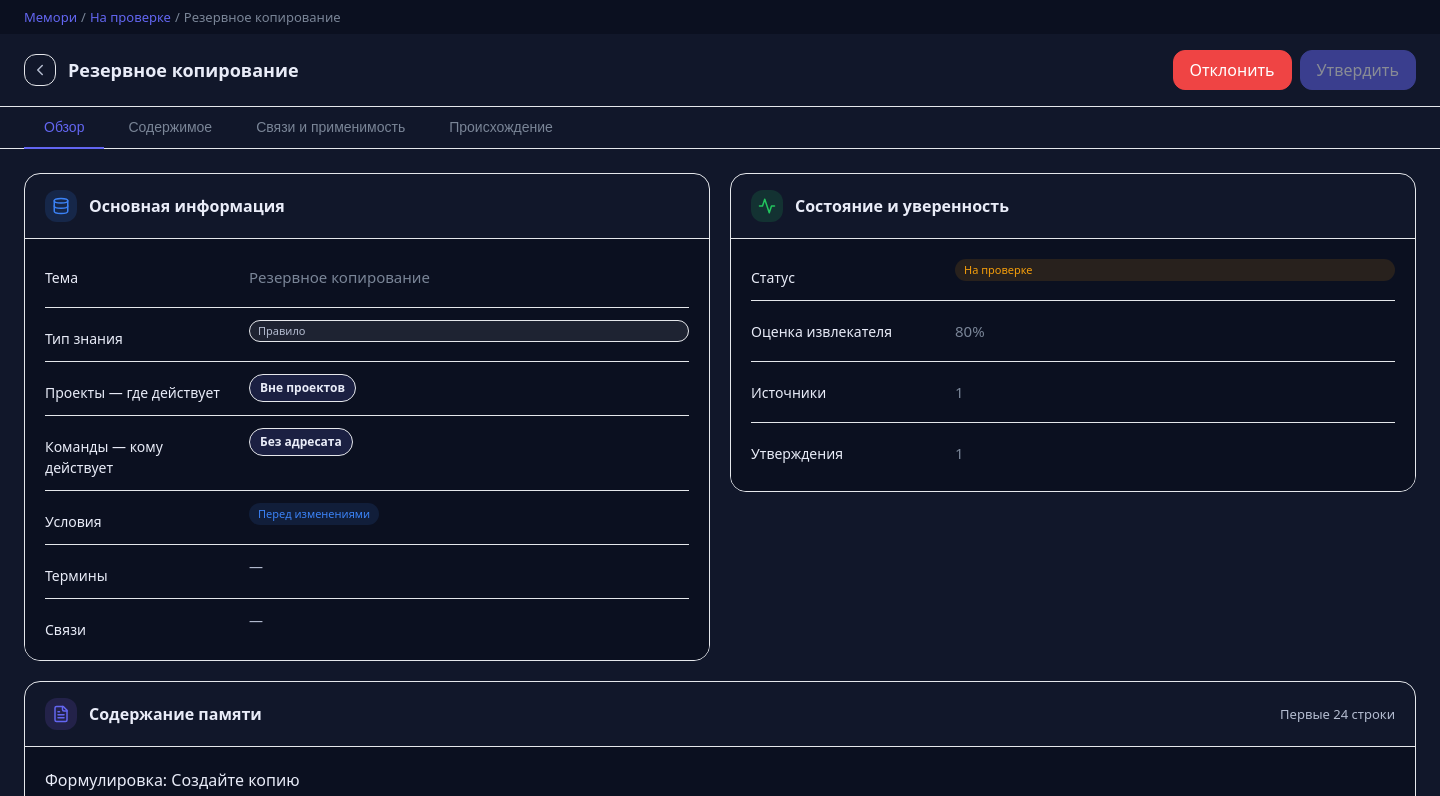
it: Общая карточка памяти › разрешает утверждение после выбора связи и передаёт поля вместе с решением
The width and height of the screenshot is (1440, 796).
Check: the button "Утвердить" is disabled, box [1300,50,1416,90]
Click the button "Связи и применимость".
click(331, 128)  # box [236,107,425,149]
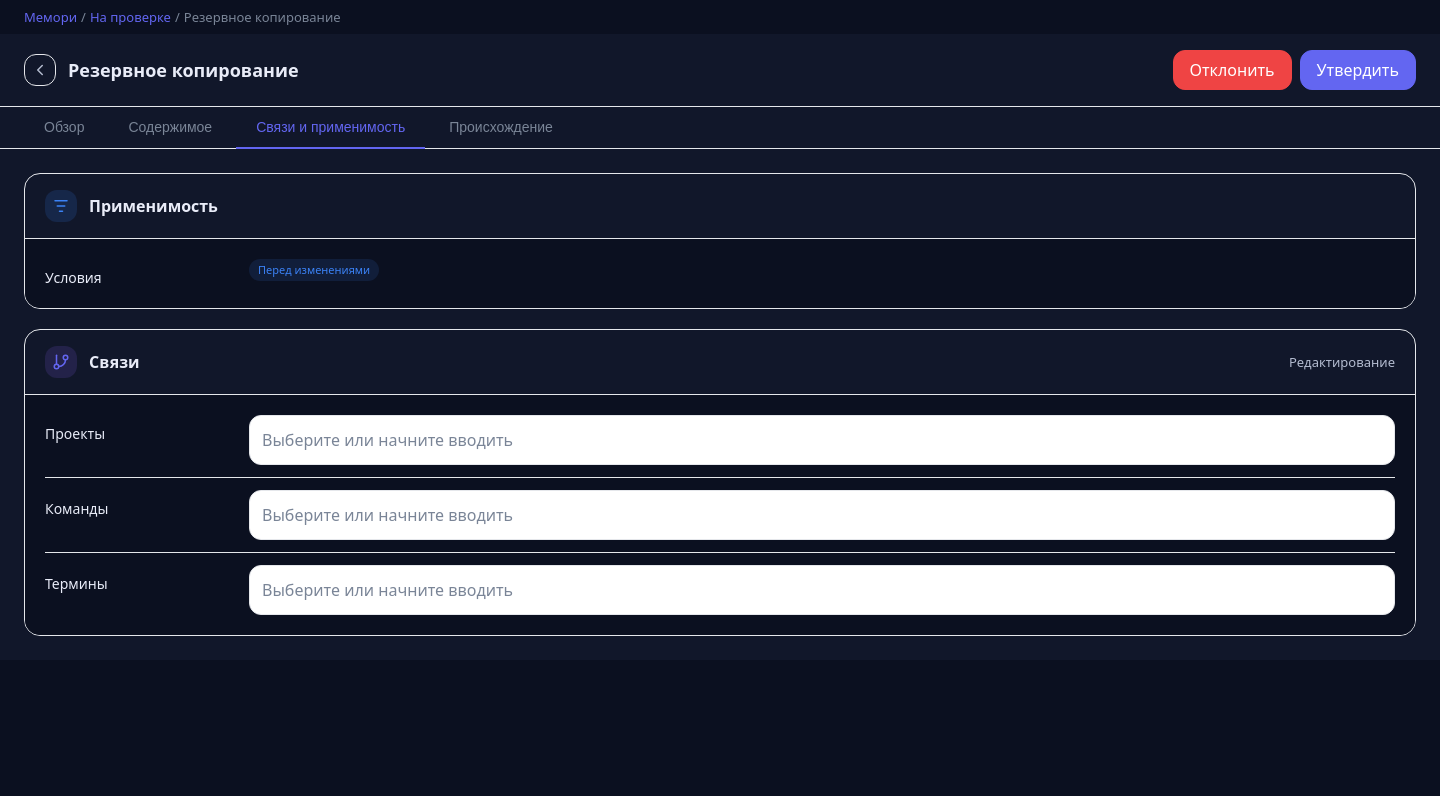
Check: the dropdown named "Команды" is enabled
Focus the dropdown named "Команды" at [822, 515], box [258,499,1386,531]
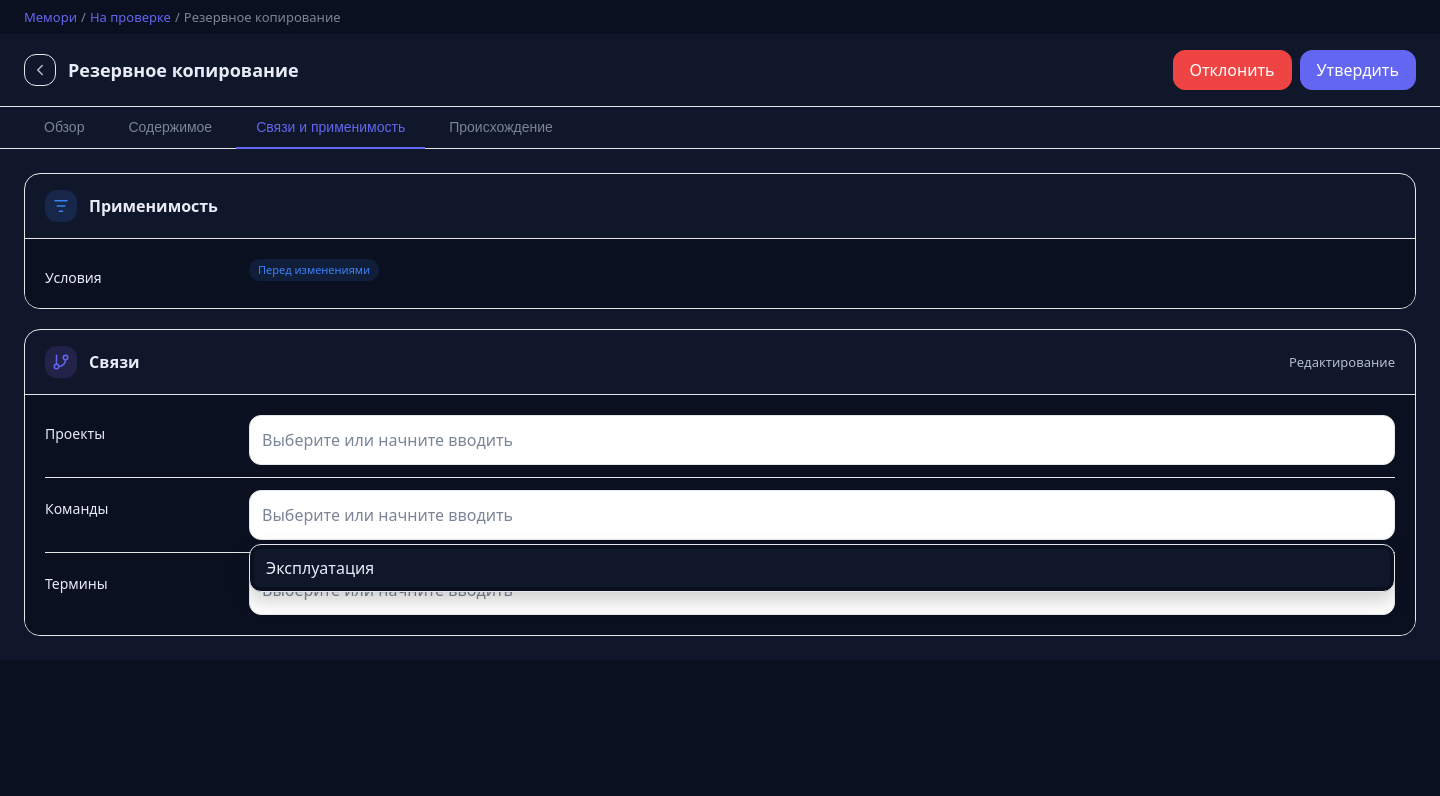
Click the option "Эксплуатация".
click(320, 568)  # box [254,549,1390,587]
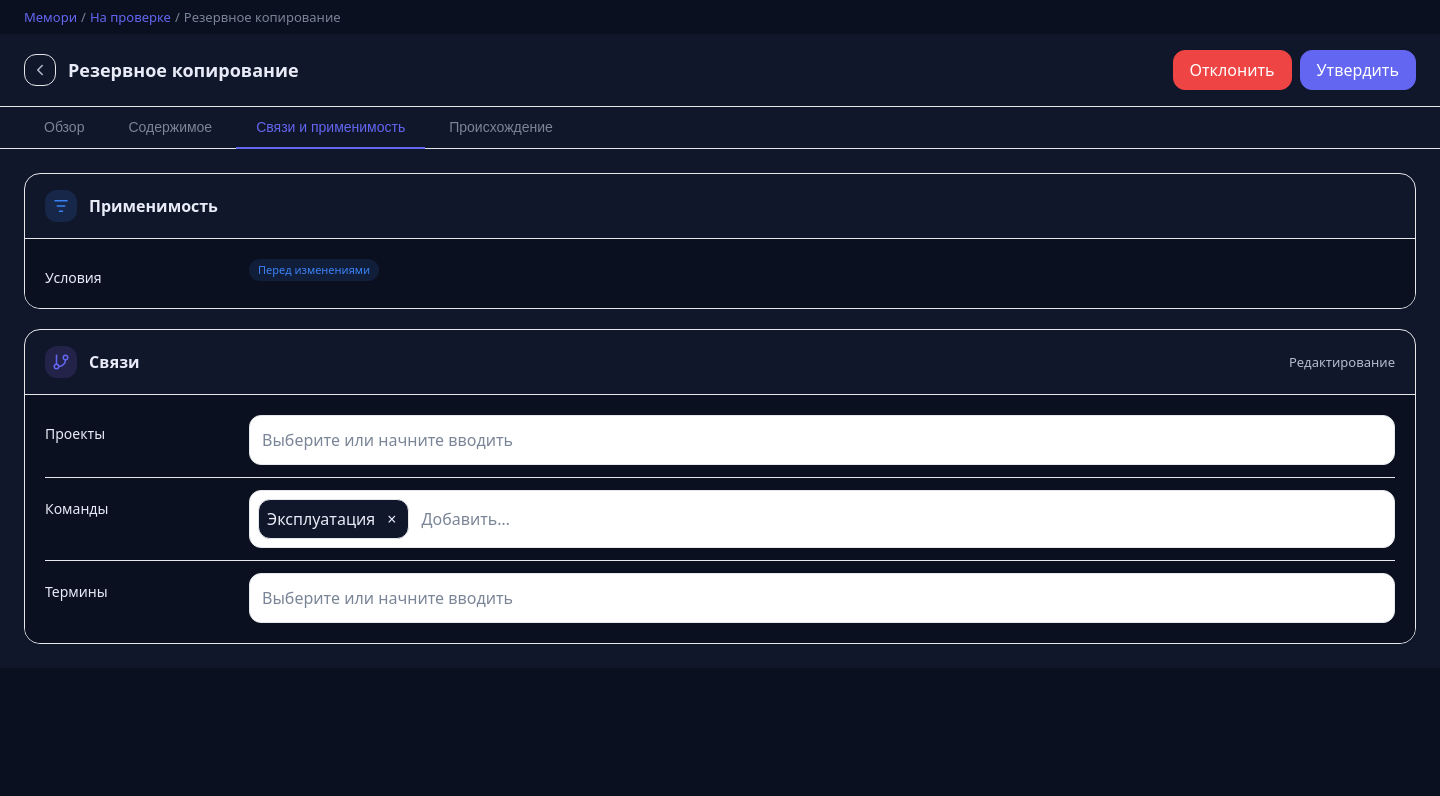
Check: the button "Утвердить" is enabled
Click the button "Утвердить".
click(1358, 70)  # box [1300,50,1416,90]
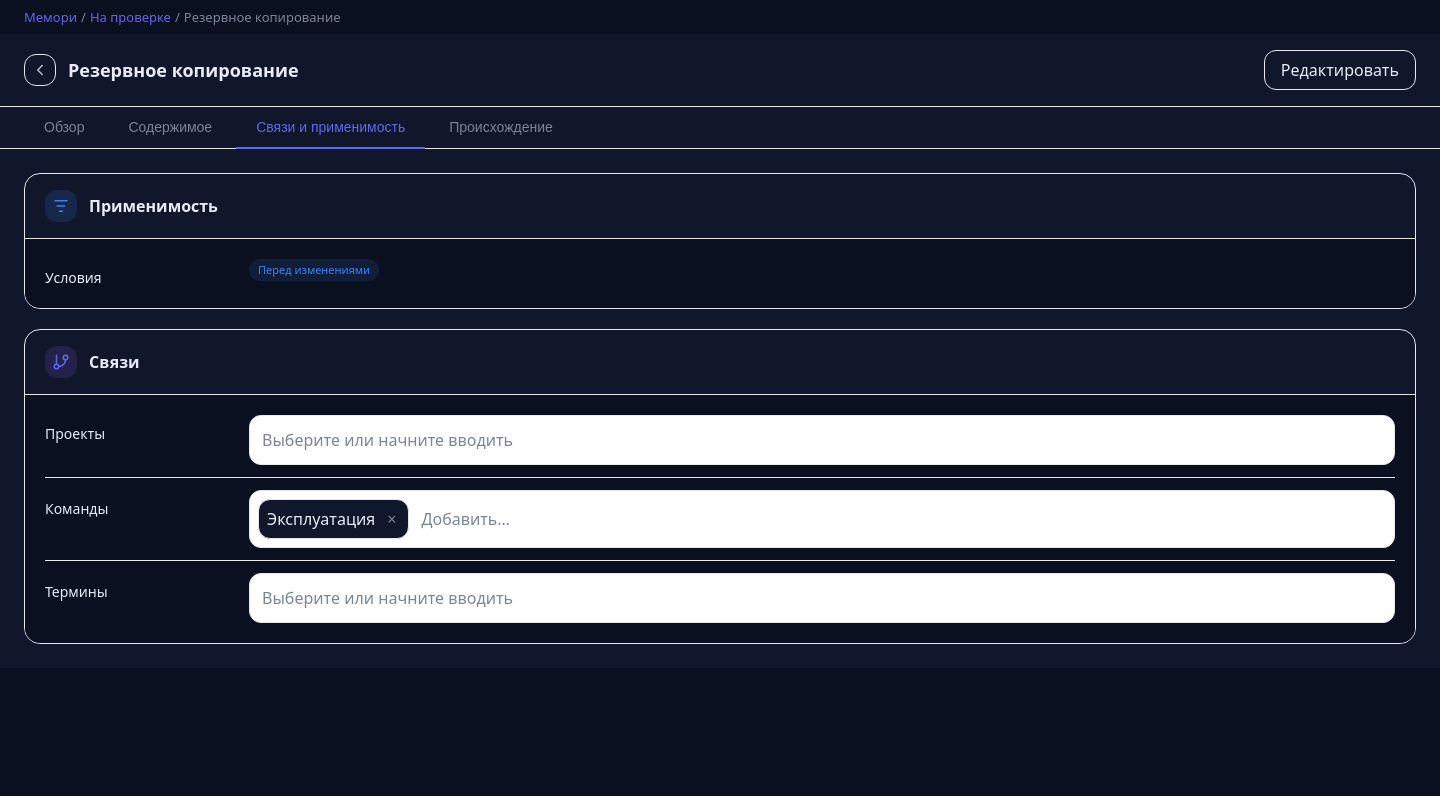
Check: the dropdown named "Команды" is disabled, box [417,503,1386,535]
Check: the button "Утвердить" is gone
Check: the button "Редактировать" is shown, box [1264,50,1416,90]
